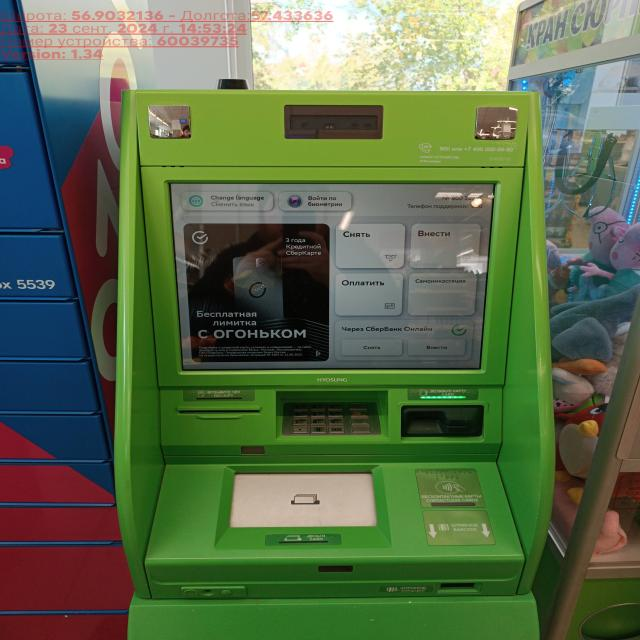bank: (111, 86, 555, 640)
